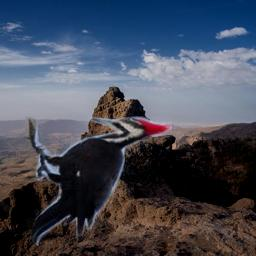Woodpecker: (25, 116, 172, 246)
